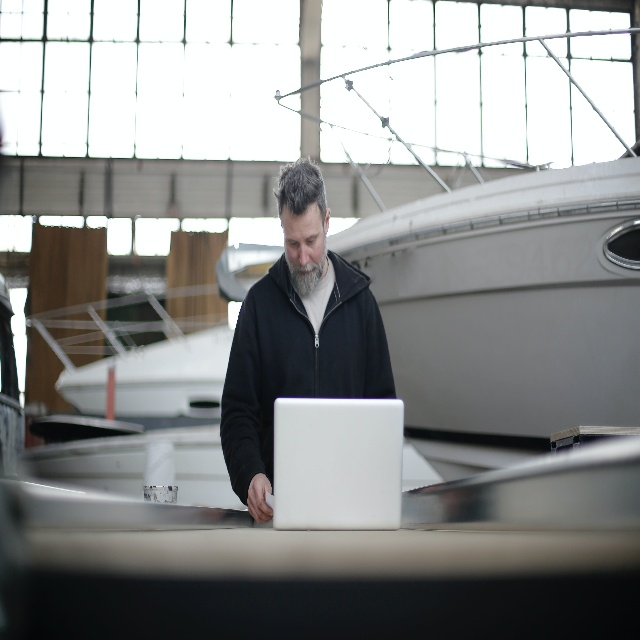Sin_guantes: (245, 475, 273, 522)
